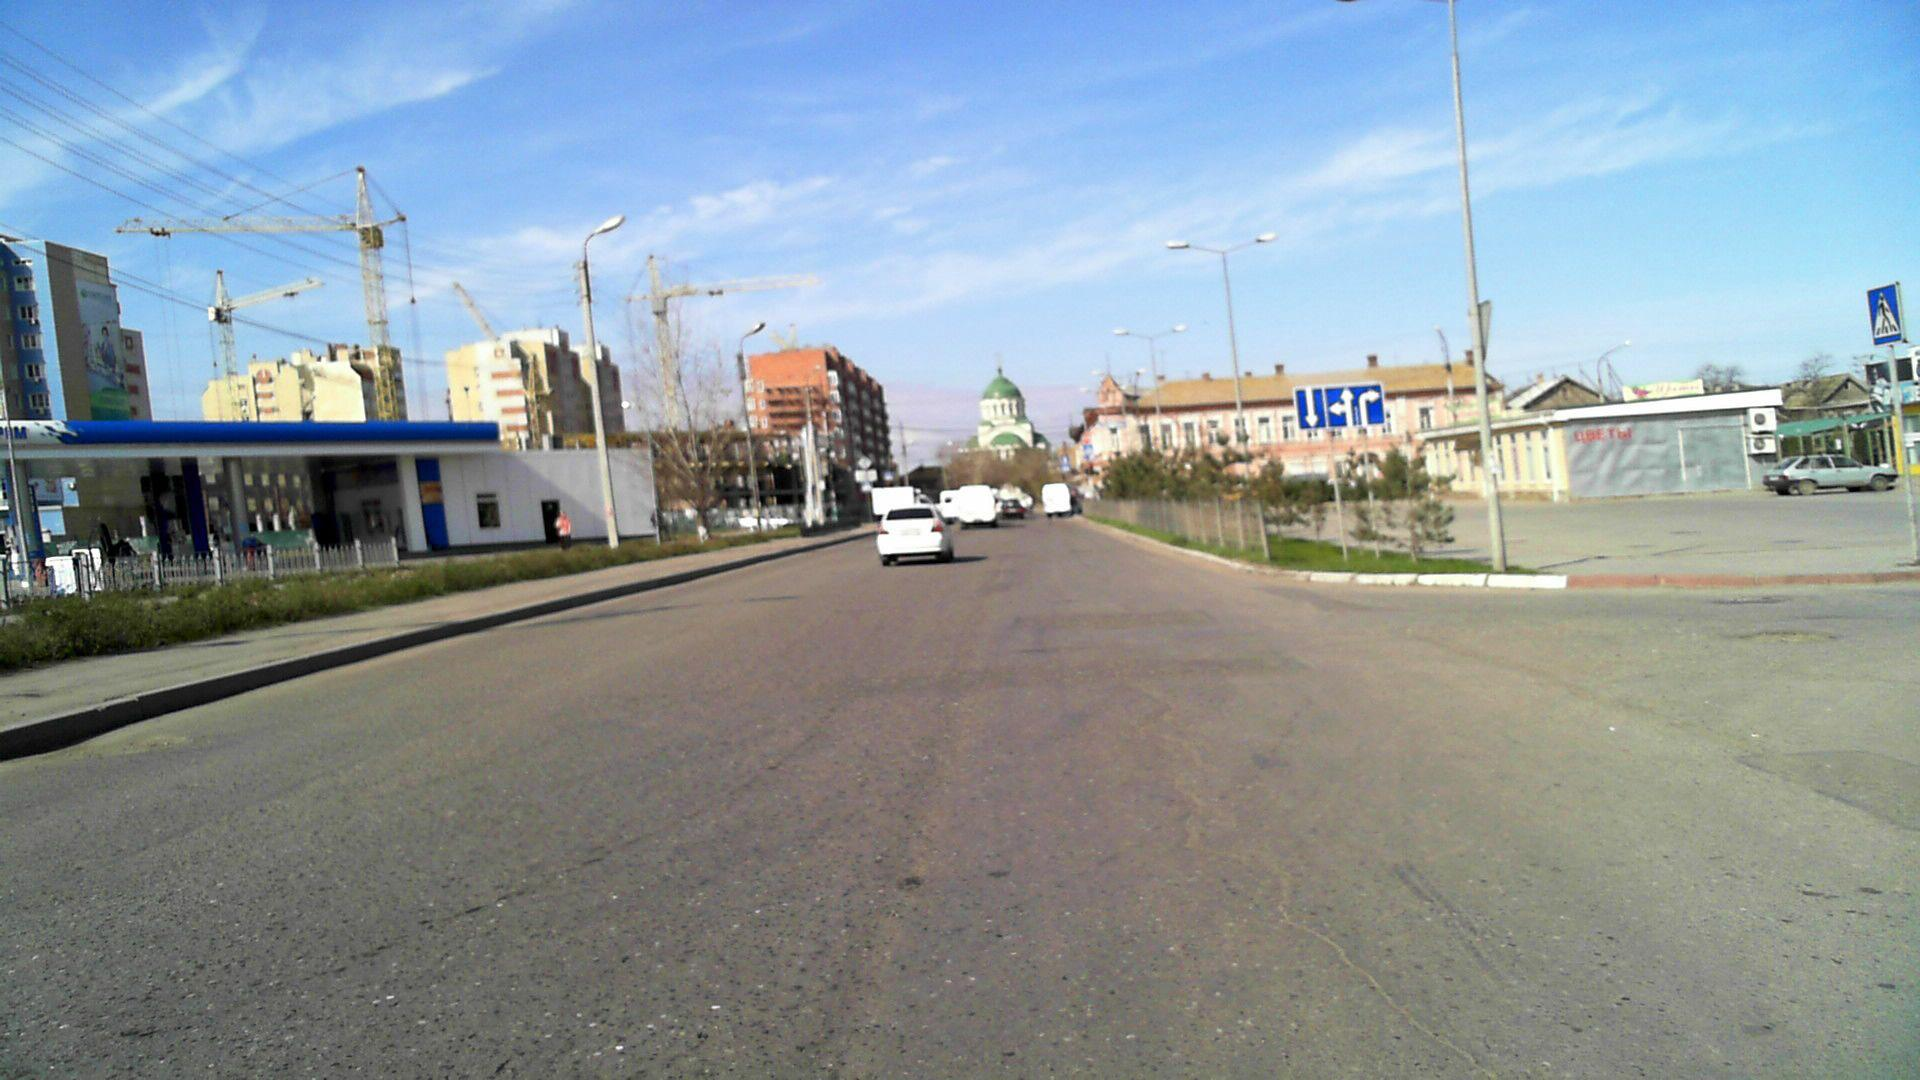5_15_1: (1295, 385, 1389, 430)
5_19_1: (1859, 282, 1907, 344)
